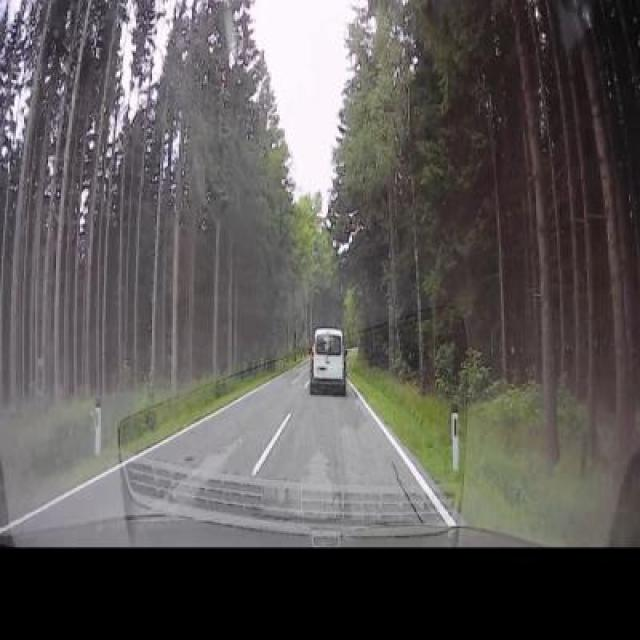clear-road: (148, 360, 398, 484)
